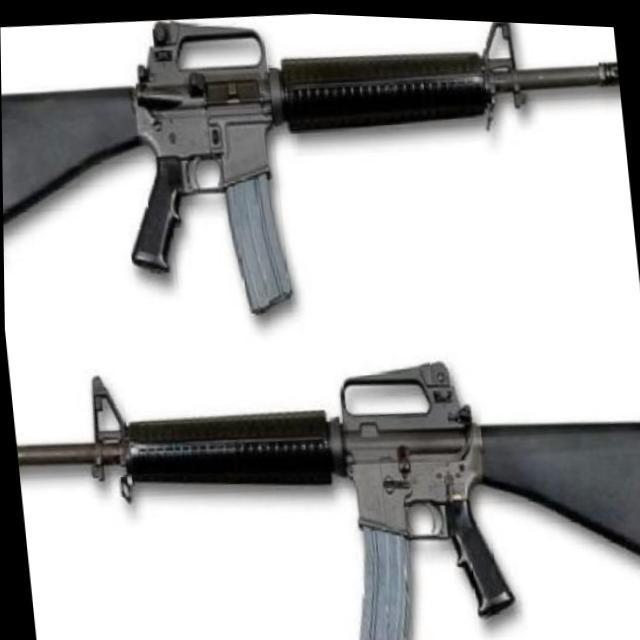weapon: (0, 0, 640, 345), (7, 319, 640, 640)
